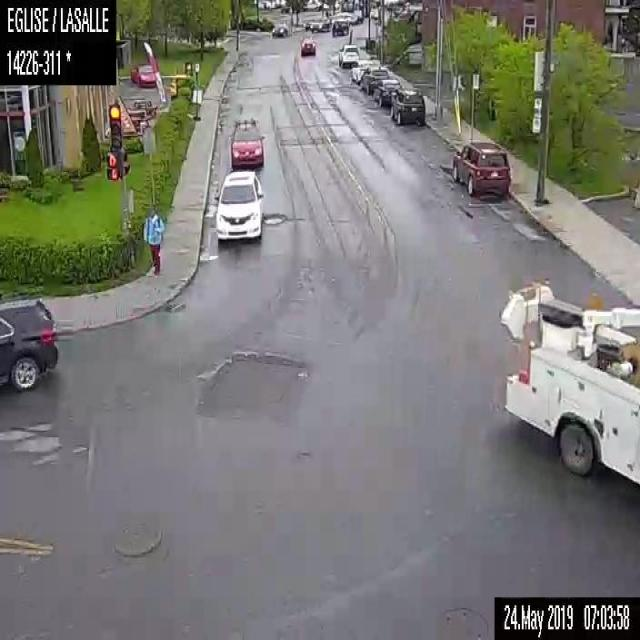pedestrian: (142, 205, 164, 276)
vehicle: (499, 275, 639, 485), (0, 297, 58, 392), (449, 137, 510, 199), (212, 168, 264, 240), (228, 116, 266, 168), (390, 88, 426, 125), (372, 78, 402, 107), (359, 65, 388, 93), (129, 63, 157, 86), (337, 44, 360, 68), (350, 59, 372, 82), (309, 17, 330, 34), (299, 36, 316, 55), (331, 19, 349, 36), (271, 18, 290, 34), (348, 12, 363, 24)
